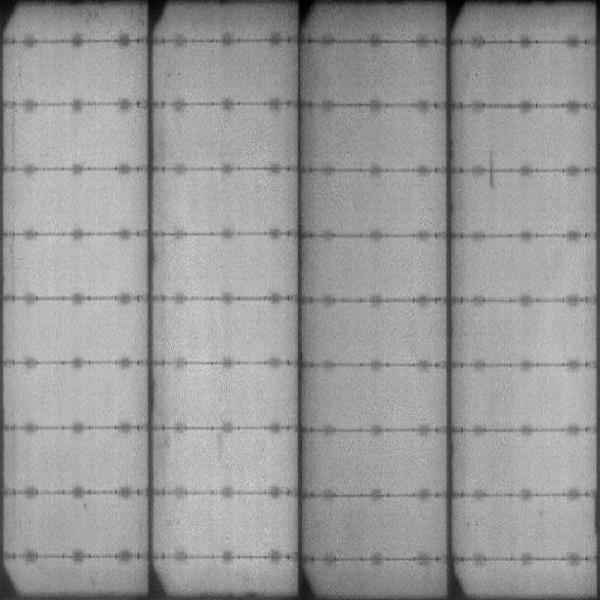scratch: (483, 150, 502, 188)
